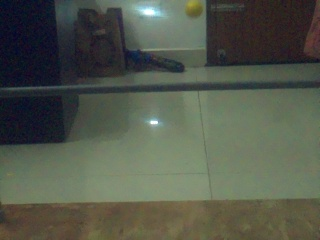ball: (185, 0, 204, 18)
